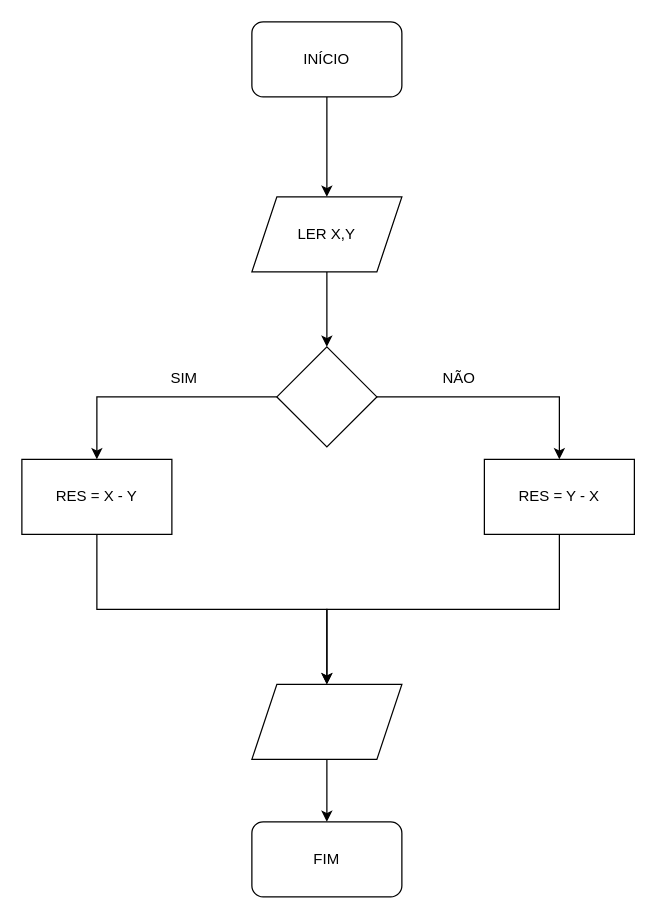
Image size: 656x919. Some labels were removed from this diagram. The centre of each missing label's shape, as x and y in pixels:
ESCREVER RES: the point at 326,721
X>Y: the point at 326,396
